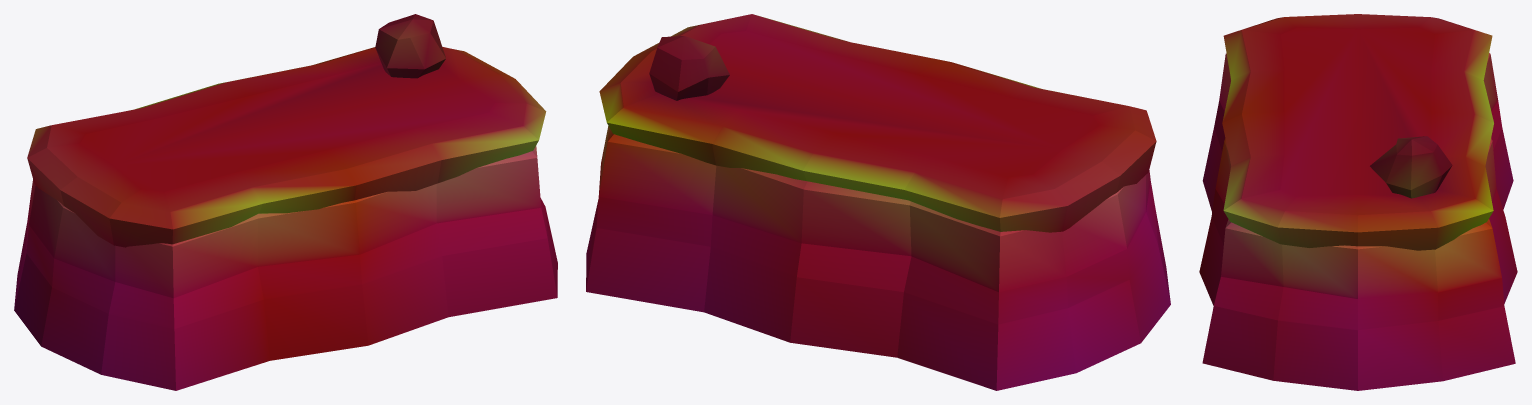
Rendered from Cliff_Ledge_Low.fbx.
3 renders of one model, left to right at view 1: azimuth 30°, elevation 25°; view 2: azimuth 150°, elevation 25°; view 3: azimuth 270°, elevation 25°, orthographic. The views are drawn at different scales.
Parts seen in each view (by area): view 1: Cliff_Ledge_Low; view 2: Cliff_Ledge_Low; view 3: Cliff_Ledge_Low.
Boxes of the visible parts, box(x1,y1,x2,y2) form: Cliff_Ledge_Low: box(14, 14, 557, 390); Cliff_Ledge_Low: box(586, 14, 1170, 390); Cliff_Ledge_Low: box(1199, 14, 1517, 390).
Size of the model in its own units: 4.57 by 1.85 by 2.6.
